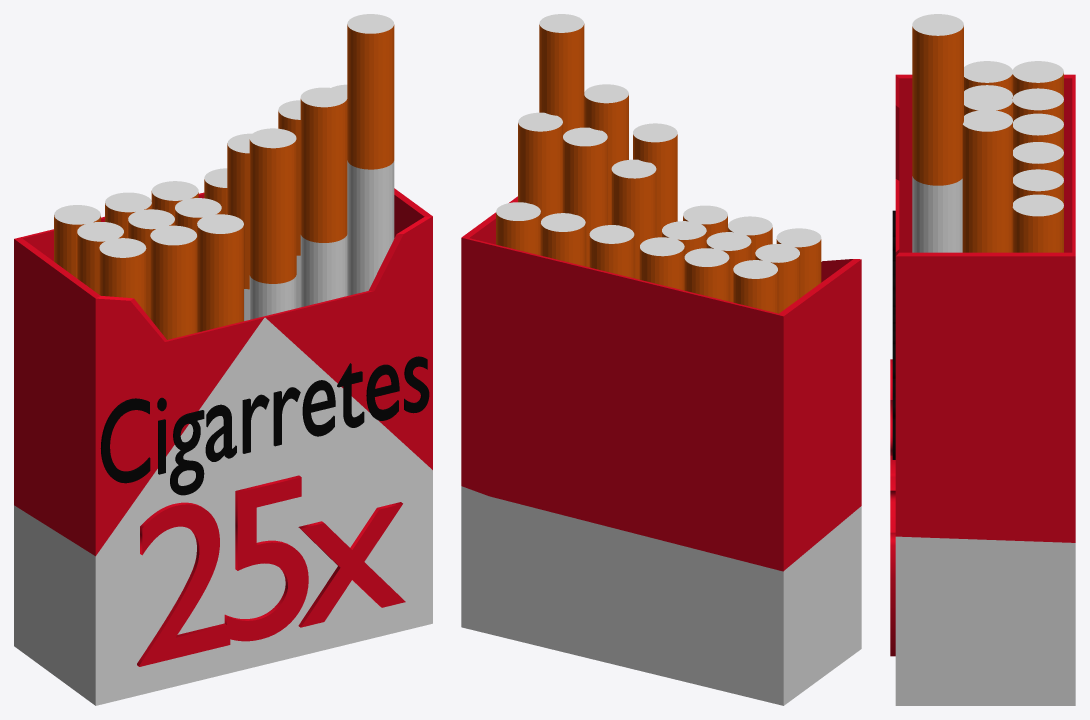
File: CIGARETTES.fbx
3 renders of one model, left to right at view 1: azimuth 30°, elevation 25°; view 2: azimuth 150°, elevation 25°; view 3: azimuth 270°, elevation 25°, orthographic. The views are drawn at different scales.
Parts seen in each view (by area): view 1: lagayan, Text.005, Cylinder.011, Text.004, Cylinder.012, Cylinder.013, Cylinder.014, Cylinder.015, Cylinder.016, Cylinder.019, Cylinder.028, Cylinder.022 (+6 smaller); view 2: lagayan, Cylinder.011, Cylinder.018, Cylinder.017, Cylinder.019, Cylinder.013, Cylinder.012, Cylinder.027, Cylinder.026, Cylinder.025, Cylinder.024, Cylinder.023 (+7 smaller); view 3: lagayan, Cylinder.011, Cylinder.017, Cylinder.023, Text.005, Cylinder.026, Cylinder.028, Cylinder.025, Cylinder.024, Cylinder.027, Cylinder.022, Cylinder.018 (+1 smaller).
Part boxes in pixels (left/top/right/bottom): lagayan: left=14, top=188, right=432, bottom=705; Text.005: left=137, top=475, right=405, bottom=666; Cylinder.011: left=347, top=14, right=394, bottom=295; Text.004: left=100, top=356, right=429, bottom=495; Cylinder.012: left=300, top=87, right=347, bottom=307; Cylinder.013: left=249, top=128, right=296, bottom=319; Cylinder.014: left=197, top=214, right=243, bottom=332; Cylinder.015: left=150, top=225, right=197, bottom=339; Cylinder.016: left=99, top=238, right=146, bottom=313; Cylinder.019: left=227, top=133, right=251, bottom=320; Cylinder.028: left=54, top=205, right=100, bottom=278; Cylinder.022: left=77, top=222, right=123, bottom=294; lagayan: left=461, top=196, right=861, bottom=705; Cylinder.011: left=539, top=14, right=584, bottom=135; Cylinder.018: left=563, top=127, right=607, bottom=267; Cylinder.017: left=518, top=112, right=562, bottom=220; Cylinder.019: left=611, top=159, right=656, bottom=279; Cylinder.013: left=633, top=123, right=677, bottom=237; Cylinder.012: left=584, top=84, right=628, bottom=224; Cylinder.027: left=684, top=248, right=729, bottom=301; Cylinder.026: left=639, top=237, right=684, bottom=290; Cylinder.025: left=589, top=225, right=634, bottom=278; Cylinder.024: left=540, top=213, right=585, bottom=266; Cylinder.023: left=496, top=202, right=540, bottom=255; lagayan: left=895, top=74, right=1075, bottom=705; Cylinder.011: left=912, top=14, right=963, bottom=252; Cylinder.017: left=962, top=110, right=1012, bottom=252; Cylinder.023: left=1012, top=194, right=1063, bottom=252; Text.005: left=890, top=359, right=895, bottom=656; Cylinder.026: left=1013, top=113, right=1063, bottom=151; Cylinder.028: left=1012, top=61, right=1063, bottom=98; Cylinder.025: left=1013, top=142, right=1063, bottom=179; Cylinder.024: left=1013, top=169, right=1063, bottom=204; Cylinder.027: left=1013, top=88, right=1063, bottom=123; Cylinder.022: left=964, top=61, right=1012, bottom=93; Cylinder.018: left=964, top=89, right=1012, bottom=119.
Bounding box in the file's own units: 768 × 1298 × 332.
